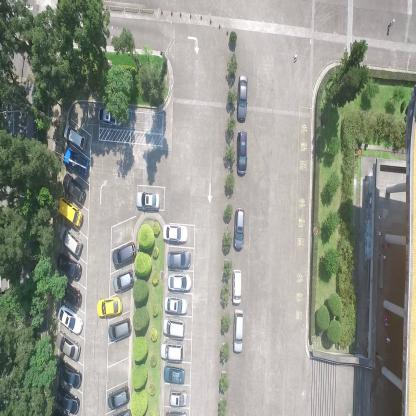car: (56, 303, 83, 336), (55, 329, 81, 362), (57, 196, 83, 229), (58, 224, 83, 258), (62, 145, 89, 176), (56, 358, 83, 388), (55, 252, 82, 281), (112, 240, 138, 269), (62, 122, 87, 152), (57, 384, 81, 414), (58, 278, 82, 308), (62, 174, 86, 204), (107, 316, 132, 344), (107, 382, 130, 412), (97, 104, 123, 129), (159, 339, 184, 362), (232, 208, 245, 252), (96, 296, 122, 318), (136, 189, 160, 212), (232, 309, 244, 354), (237, 75, 248, 123), (236, 129, 247, 177), (167, 248, 191, 270), (164, 294, 188, 316), (112, 270, 136, 292), (162, 222, 188, 242), (167, 272, 192, 292), (163, 317, 185, 338), (163, 364, 185, 384), (232, 267, 242, 306), (167, 388, 188, 406)
